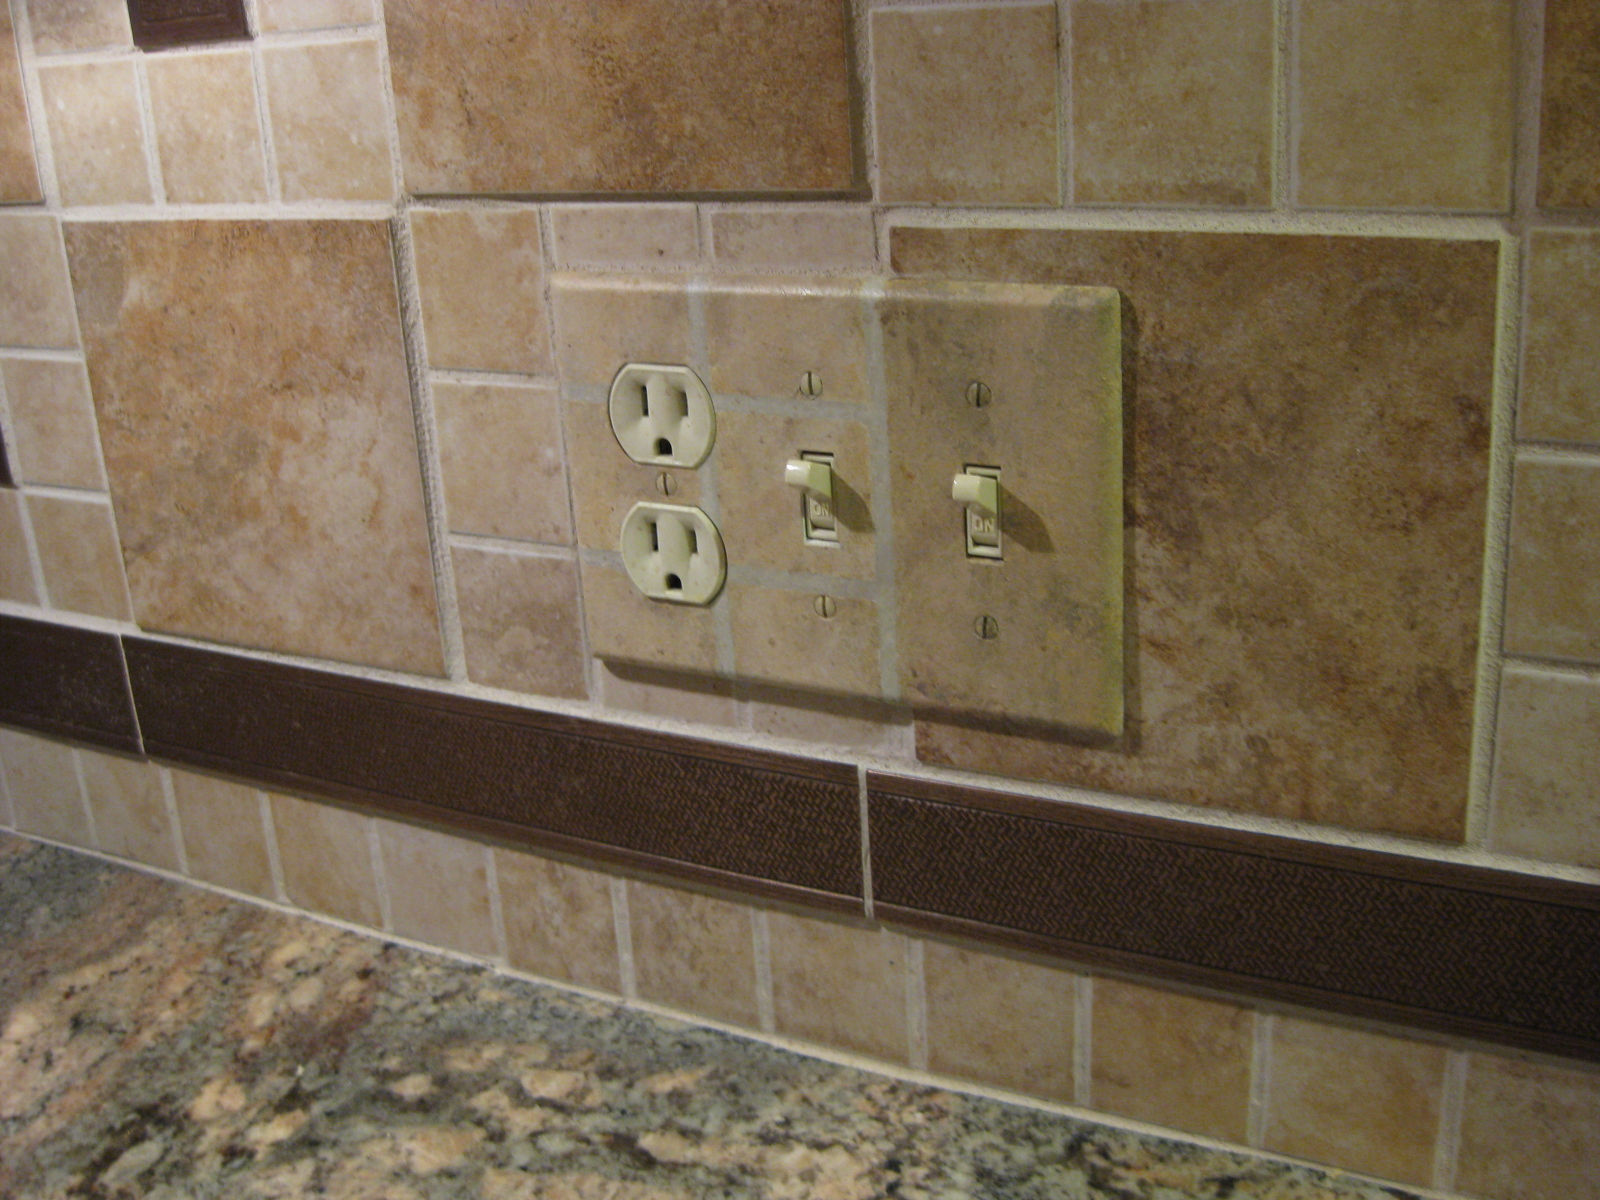outlet: (629, 376, 699, 463), (641, 513, 709, 596)
